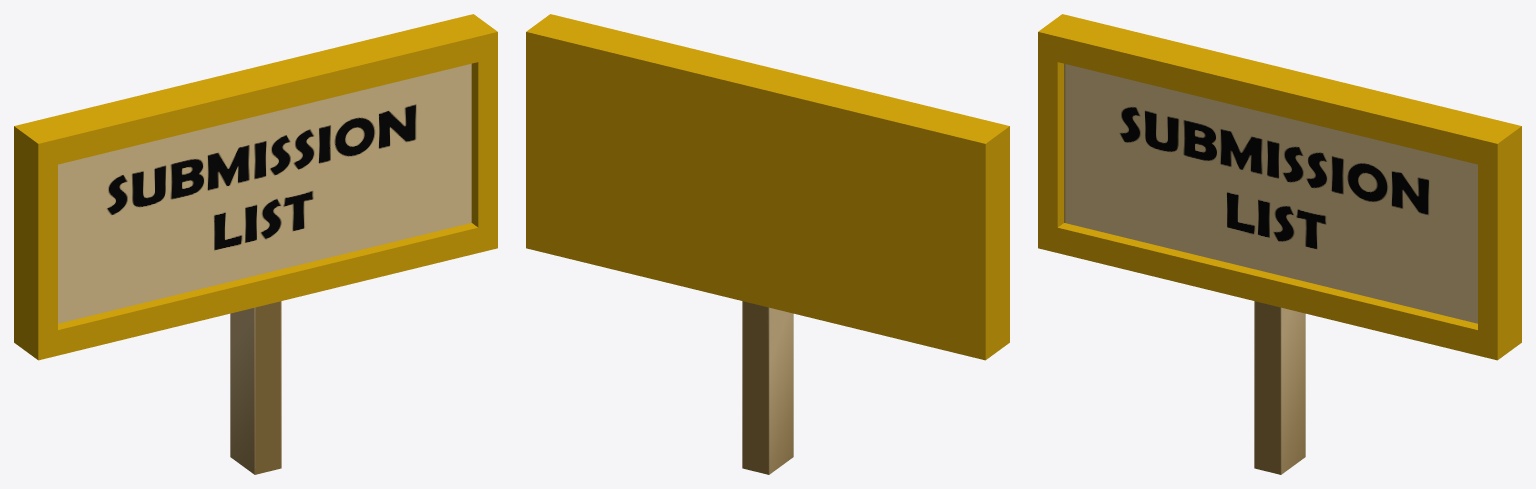
File: signPost_Report.fbx
The picture shows the model from 3 angles, left to right: view 1: azimuth 30°, elevation 25°; view 2: azimuth 150°, elevation 25°; view 3: azimuth 330°, elevation 25°; orthographic projection.
Parts seen in each view (by area): view 1: pCube3; view 2: pCube3; view 3: pCube3.
Boxes of the visible parts, x1,y1,x2,y2 form: pCube3: (14,14,497,474); pCube3: (526,14,1009,474); pCube3: (1038,14,1521,474).
Bounding box in the file's own units: 6.34 × 5.06 × 0.5821.
Materials: 2 (1 with a texture image).
